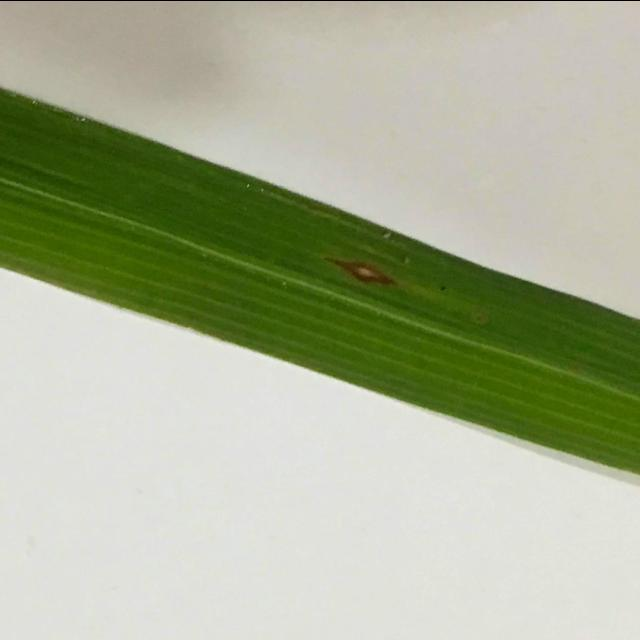Leaf blast: (329, 256, 412, 306)
